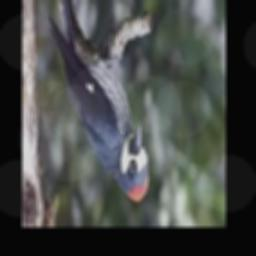Woodpecker: (48, 0, 148, 205)
